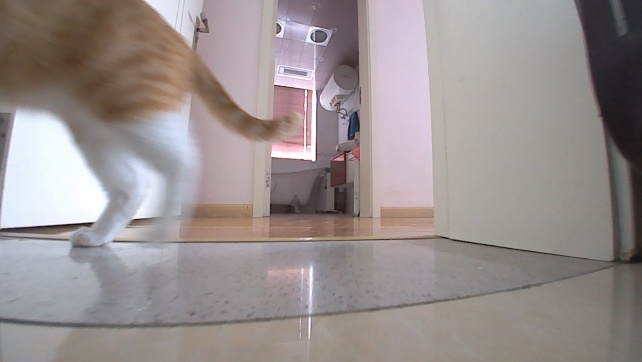cat: (0, 0, 308, 252)
